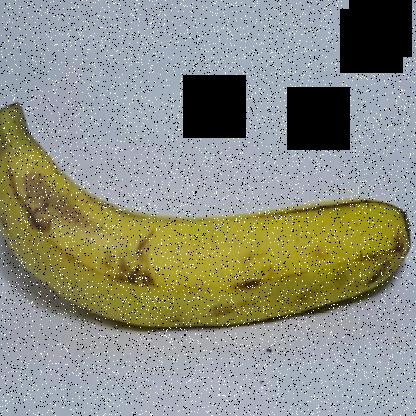ripe: (1, 89, 415, 345)
